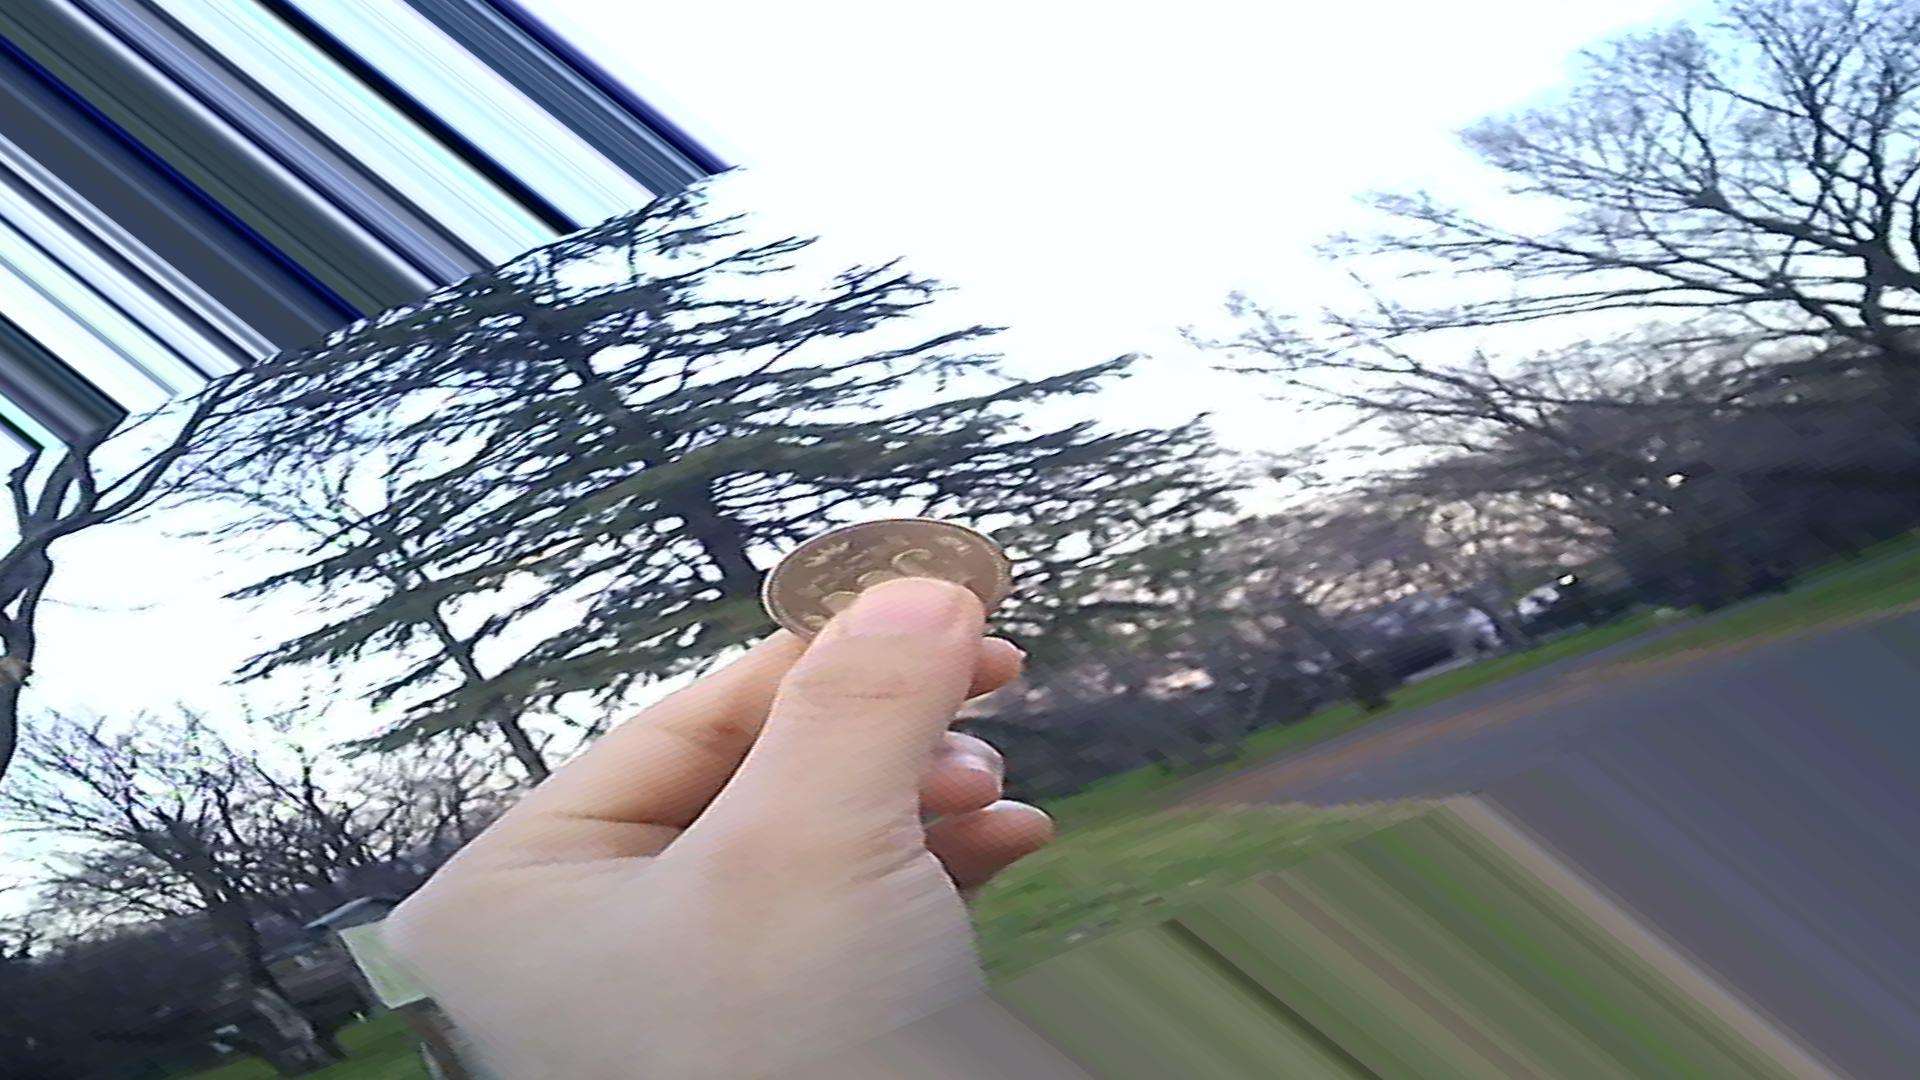500 Yen: (757, 508, 1009, 655)
